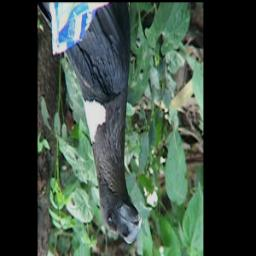Crow: (58, 4, 143, 243)
